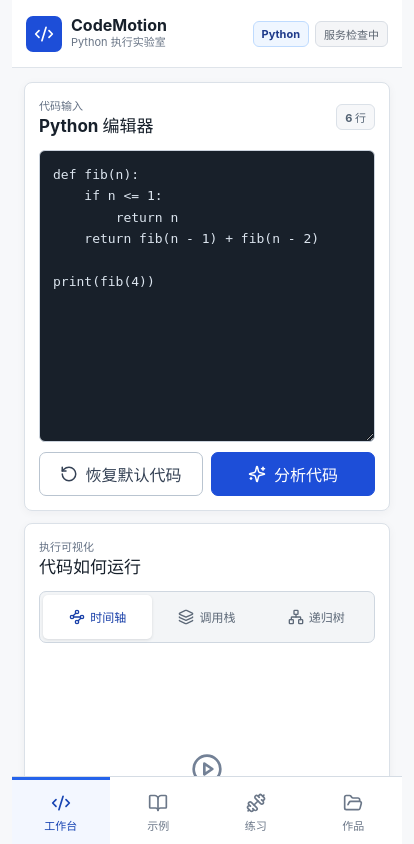
Test: CodeMotion application › loads examples and resets prior analysis when an example is selected
Click the button "分析代码".
click(293, 474)  # box [211,452,375,496]
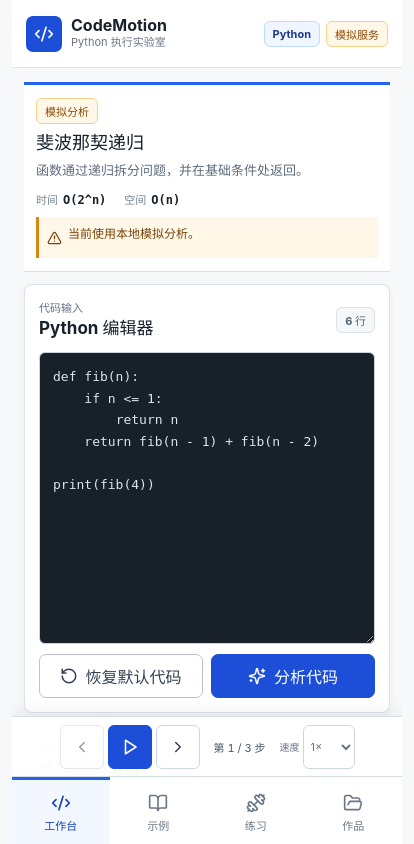
Result: the text "函数通过递归拆分问题，并在基础条件处返回。" is shown at [36,162,309,178]
Click the button named "下一步".
click(178, 746)  # box [156,724,200,768]
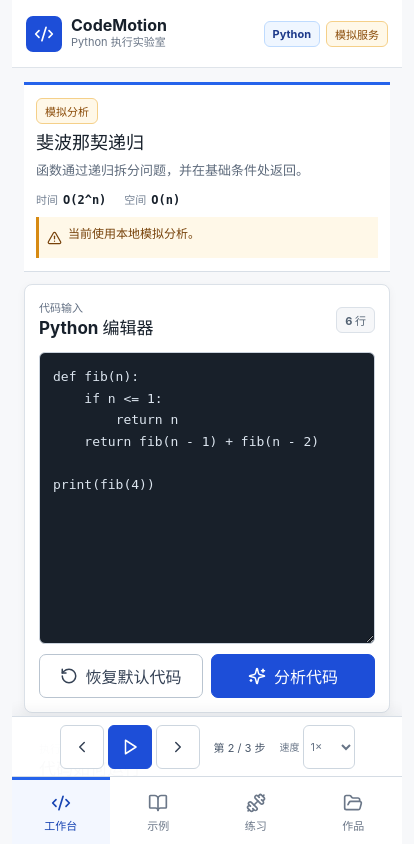
Click the button "示例".
click(158, 811)  # box [110,777,207,843]
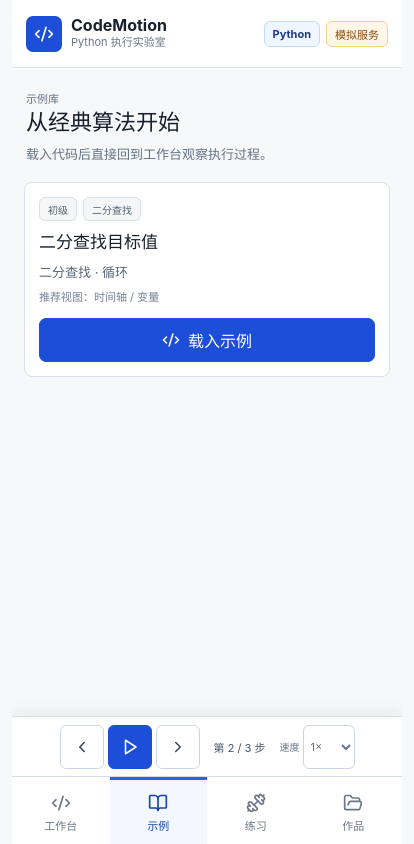
Result: the heading "二分查找目标值" is shown at [39,232,158,252]
Result: the text "二分查找 · 循环" is shown at [39,264,128,280]
Result: the text "初级" is shown at [39,198,77,222]
Click the button with aria-label "载入二分查找目标值".
click(207, 340)  # box [39,318,375,362]
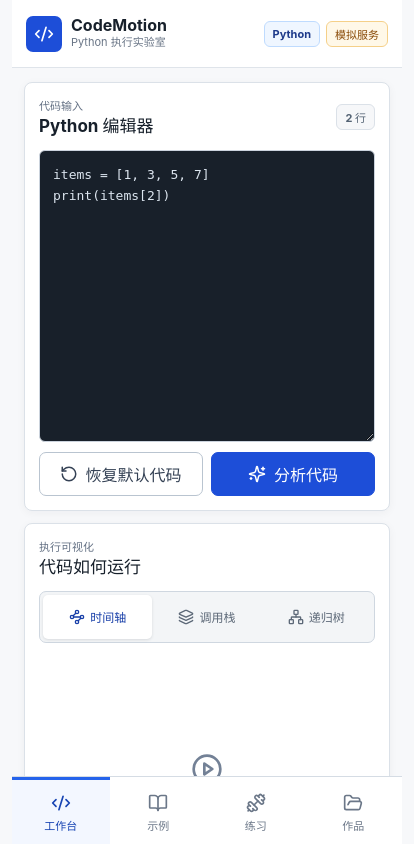
Expected: the text "函数通过递归拆分问题，并在基础条件处返回。" is not shown
Result: the button "分析代码" is shown at [211,452,375,496]
Result: the text "运行分析后，这里会显示执行时间轴。" is shown at [96,796,318,816]
